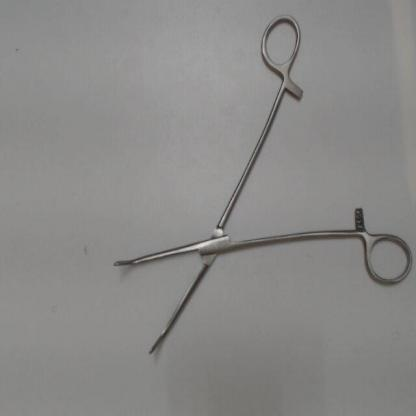Lahey Forceps: (107, 10, 415, 364)
